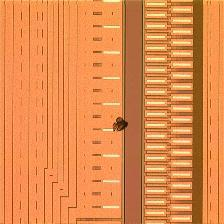PARTICLE: (111, 115, 131, 135)
